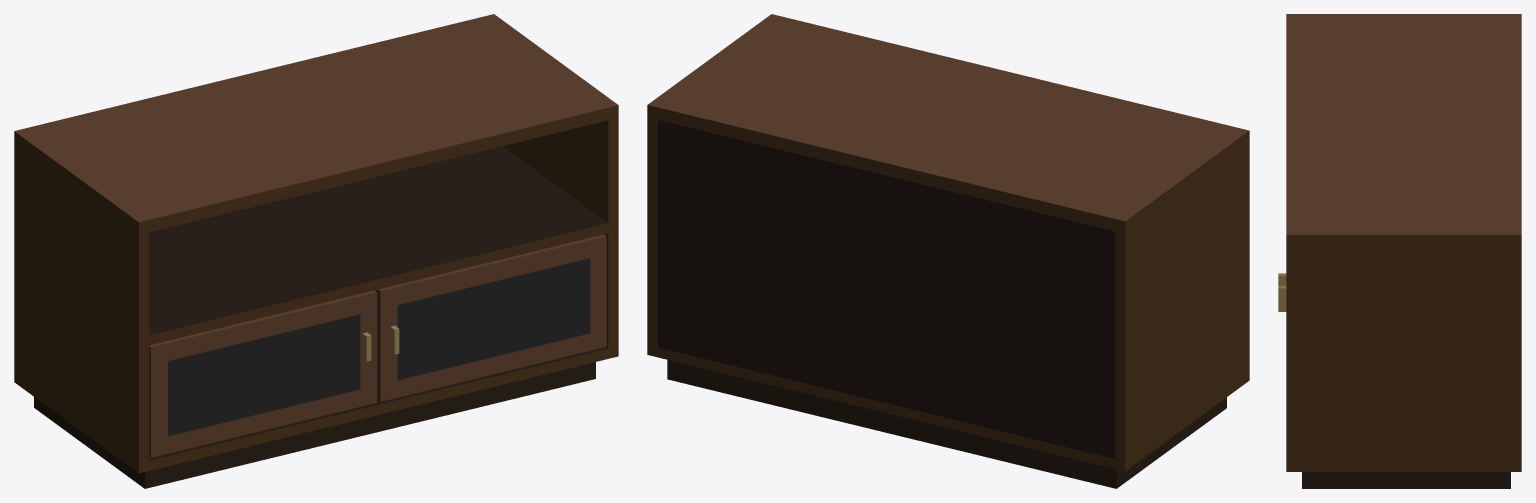
Rendered from tv-stand.glb.
The picture shows the model from 3 angles, left to right: view 1: azimuth 30°, elevation 25°; view 2: azimuth 150°, elevation 25°; view 3: azimuth 270°, elevation 25°; orthographic projection. The views are drawn at different scales.
Parts seen in each view (by area): view 1: tv-stand; view 2: tv-stand; view 3: tv-stand.
Part boxes in pixels (box(x1,y1,x2,y2)): tv-stand: box(14, 14, 618, 488); tv-stand: box(647, 14, 1249, 488); tv-stand: box(1278, 14, 1521, 488).
Bounding box in the file's own units: 1 × 0.55 × 0.465.
